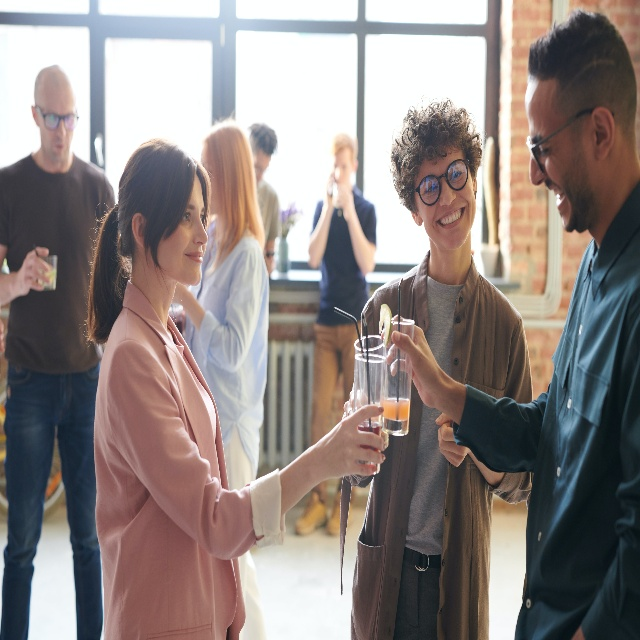Gafas: (526, 107, 593, 174), (412, 158, 470, 207), (34, 104, 79, 131)
Sin_guantes: (380, 314, 441, 412), (319, 403, 385, 478), (434, 410, 469, 468), (17, 246, 51, 298), (331, 183, 354, 222), (324, 172, 334, 212)
